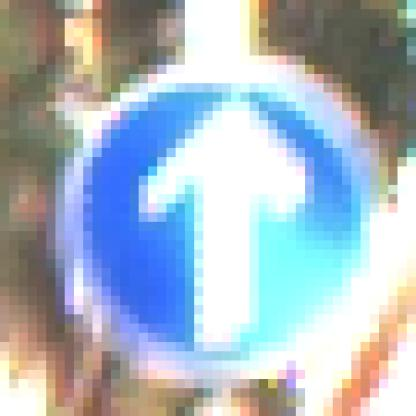AheadOnly: (47, 47, 362, 371)
